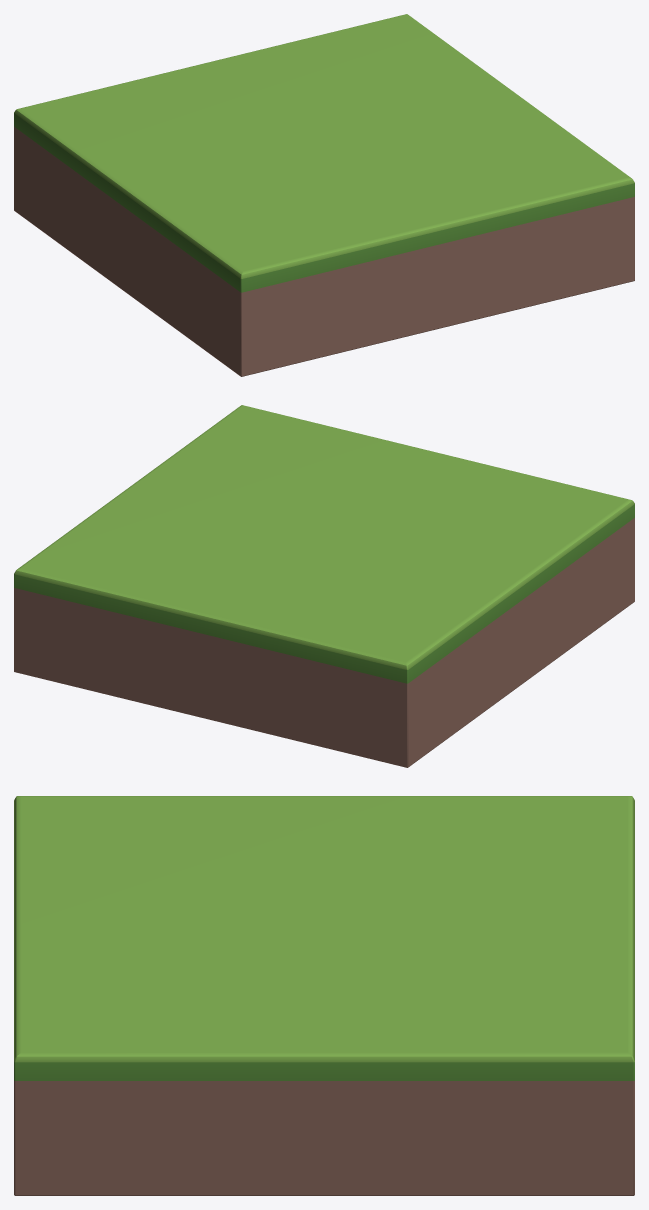
File: grass_tile_01.glb
3 renders of one model, top to bottom at view 1: azimuth 30°, elevation 25°; view 2: azimuth 150°, elevation 25°; view 3: azimuth 270°, elevation 25°, orthographic. The views are drawn at different scales.
Visible parts, largest first — view 1: grass_tile_01; view 2: grass_tile_01; view 3: grass_tile_01.
Boxes of the visible parts, x1,y1,x2,y2 form: grass_tile_01: (14, 14, 634, 376); grass_tile_01: (14, 405, 634, 767); grass_tile_01: (14, 796, 634, 1195).
Bounding box in the file's own units: 1 × 0.25 × 1.
